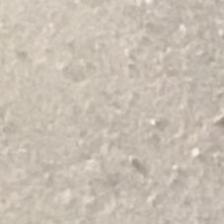Non_Crack: (13, 25, 199, 188)
